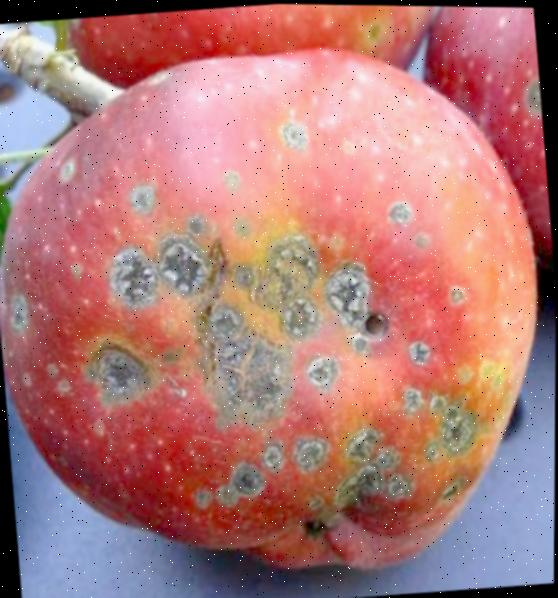SCAB: (0, 17, 558, 585)
